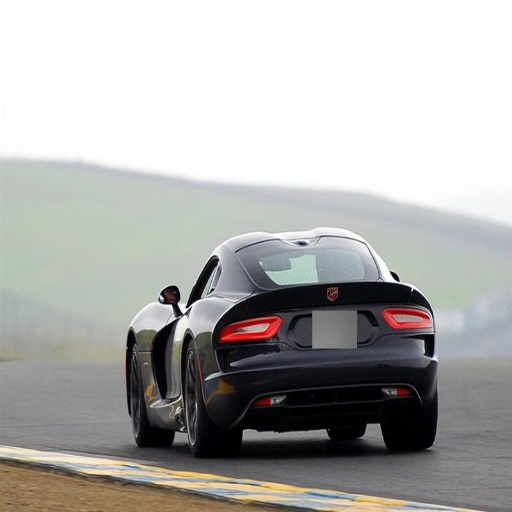back_bumper: (202, 336, 438, 421)
trunk: (274, 282, 424, 371)
